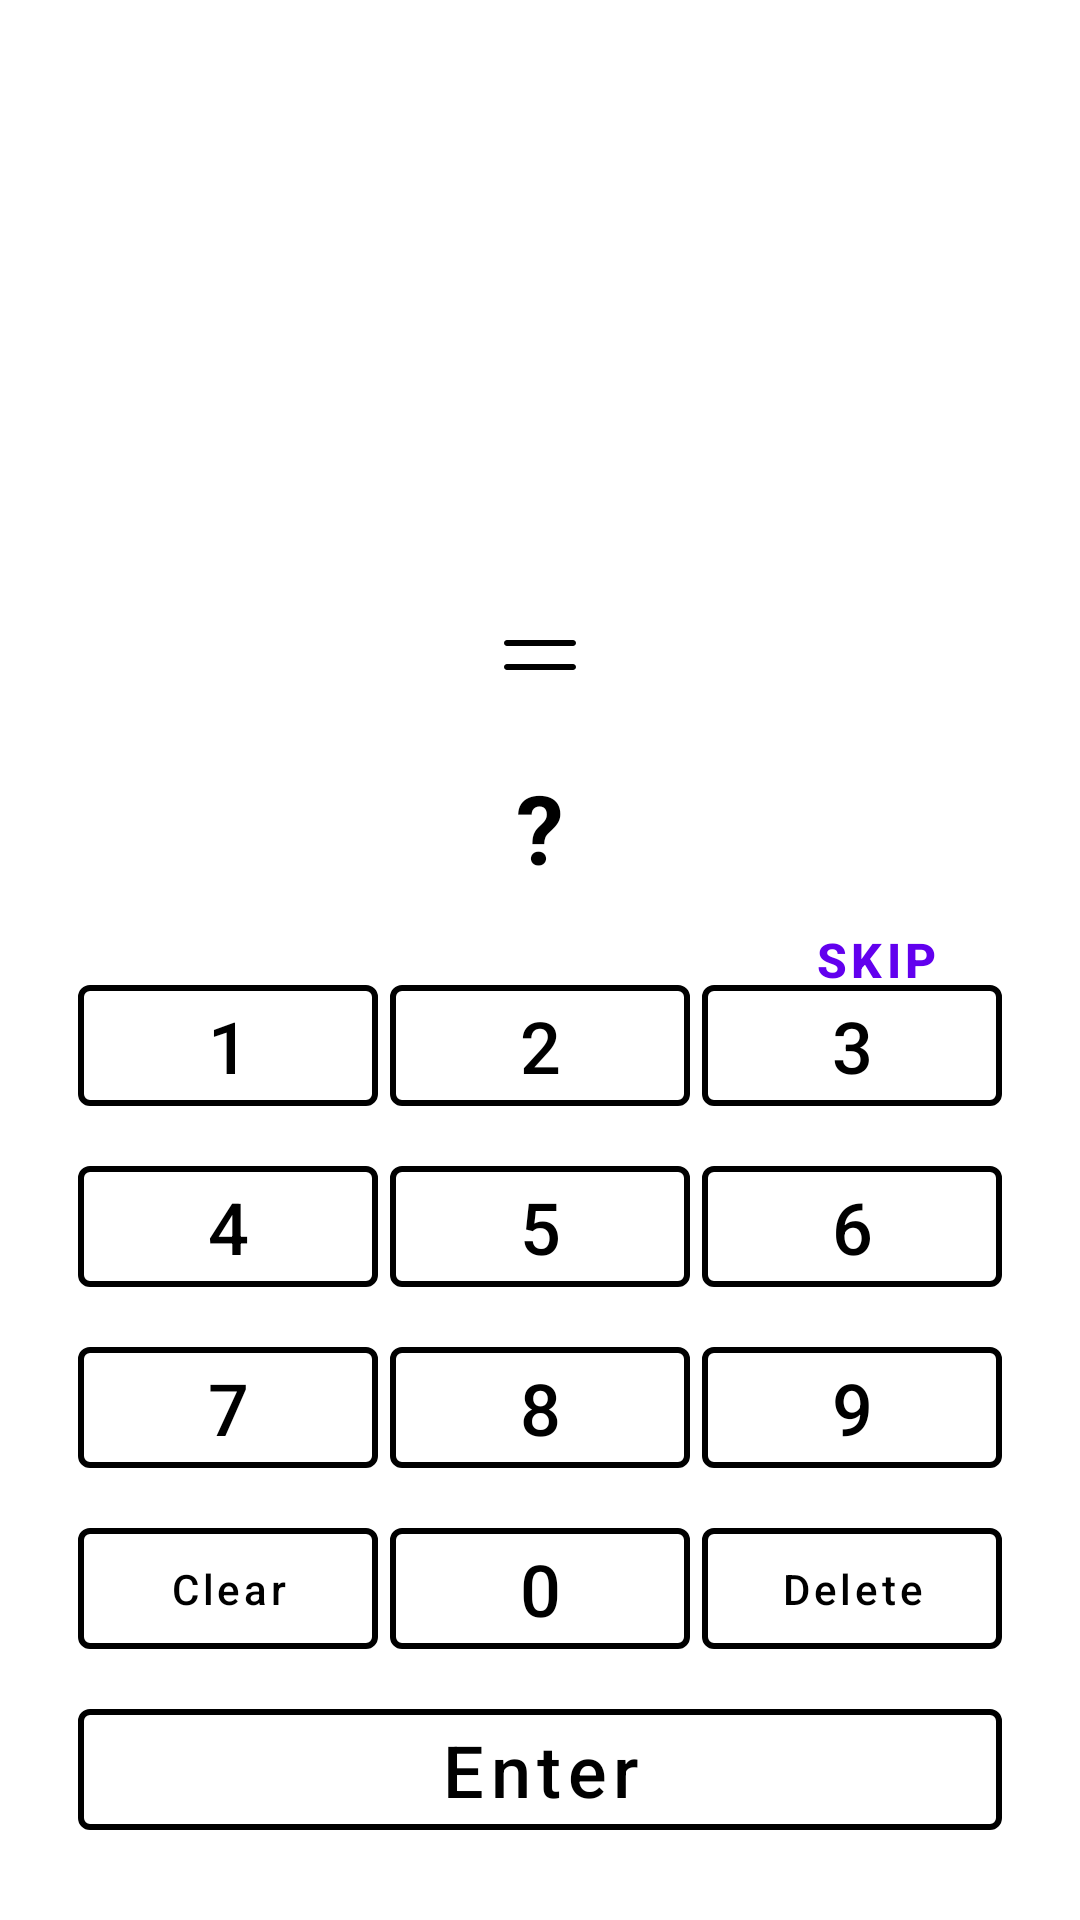

Point at icon controls on the screen. Image size 1080px×1920px, points as [x,y].
equal: [540,655]
